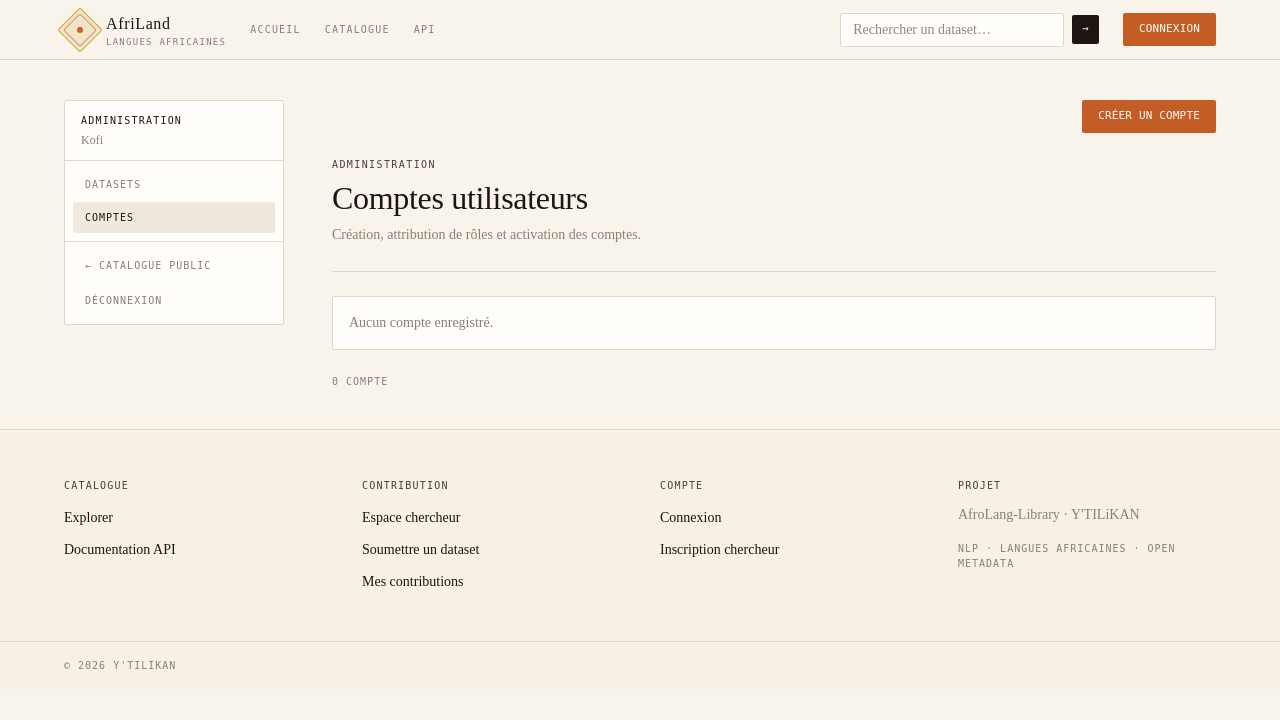
Scenario: AccountAdminPanel (Story 4.4) › affiche le conflit d'e-mail renvoyé par le serveur
Click the button "Créer un compte" at coordinates (1149, 116), box [1082,100,1216,132]
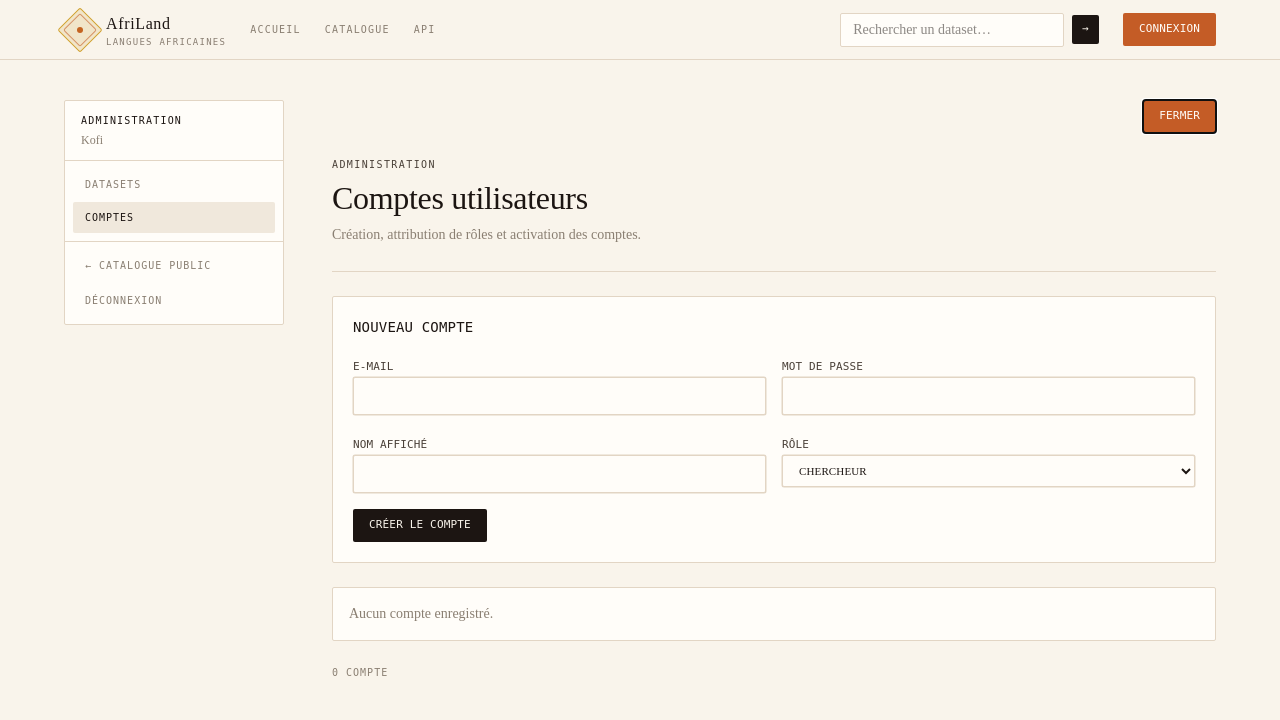
Type "awa@university.org" into the field labelled "E-mail" at coordinates (560, 396), box [353,377,766,415]
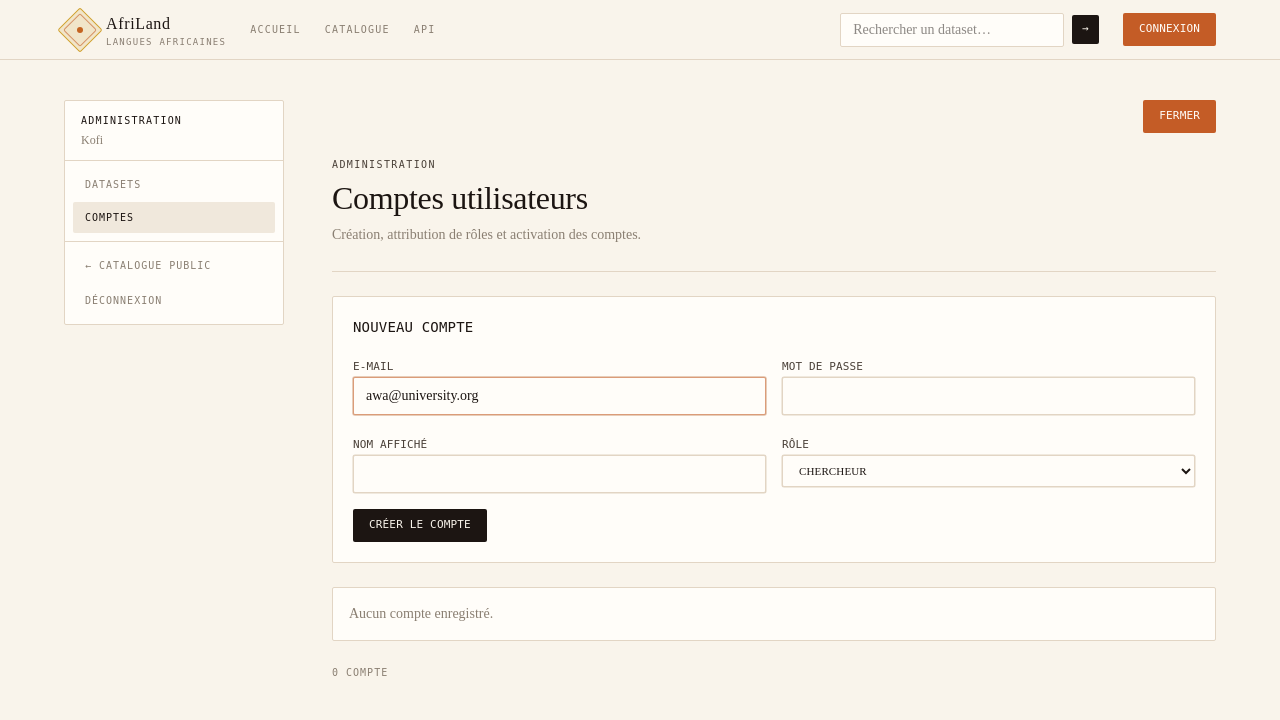
Type "password123" into the password field labelled "Mot de passe" at coordinates (988, 396), box [782,377,1195,415]
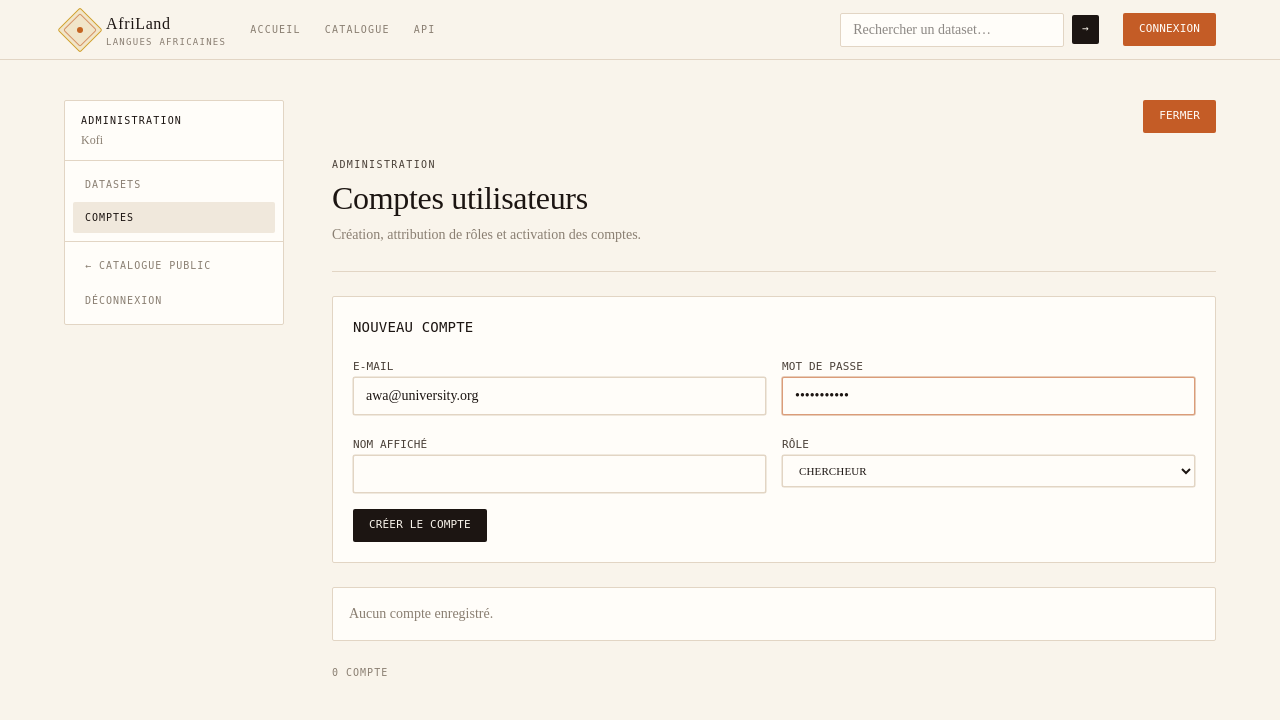
Type "Awa Ndiaye" into the field labelled "Nom affiché" at coordinates (560, 474), box [353,455,766,493]
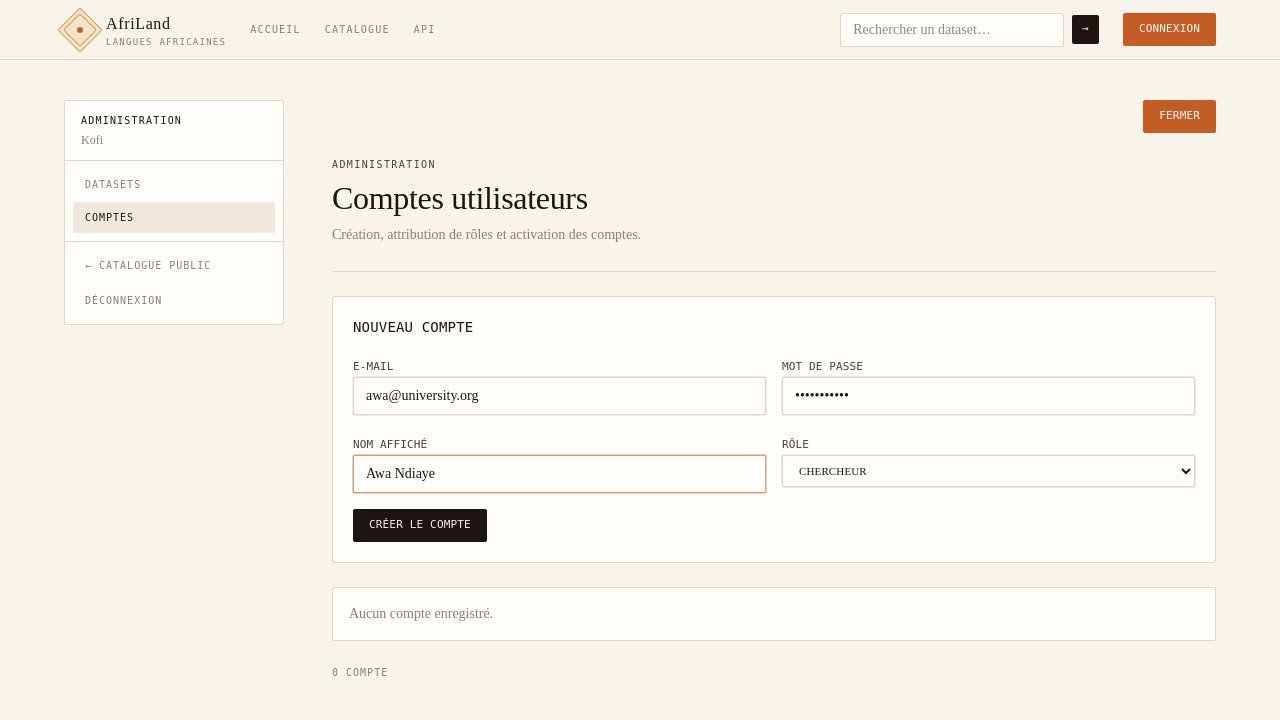
Click the button "Créer le compte" at coordinates (420, 525), box [353,509,487,542]
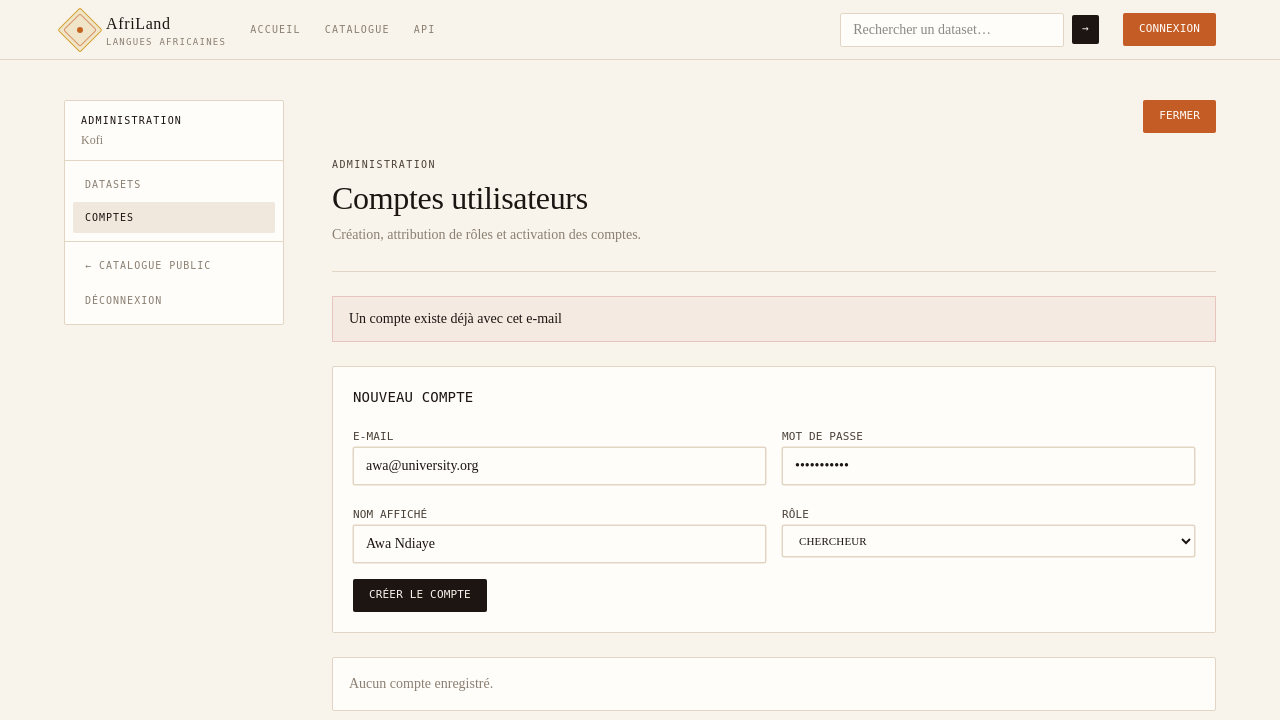
Result: the text "Un compte existe déjà avec cet e-mail" is shown at [332,296,1216,342]
